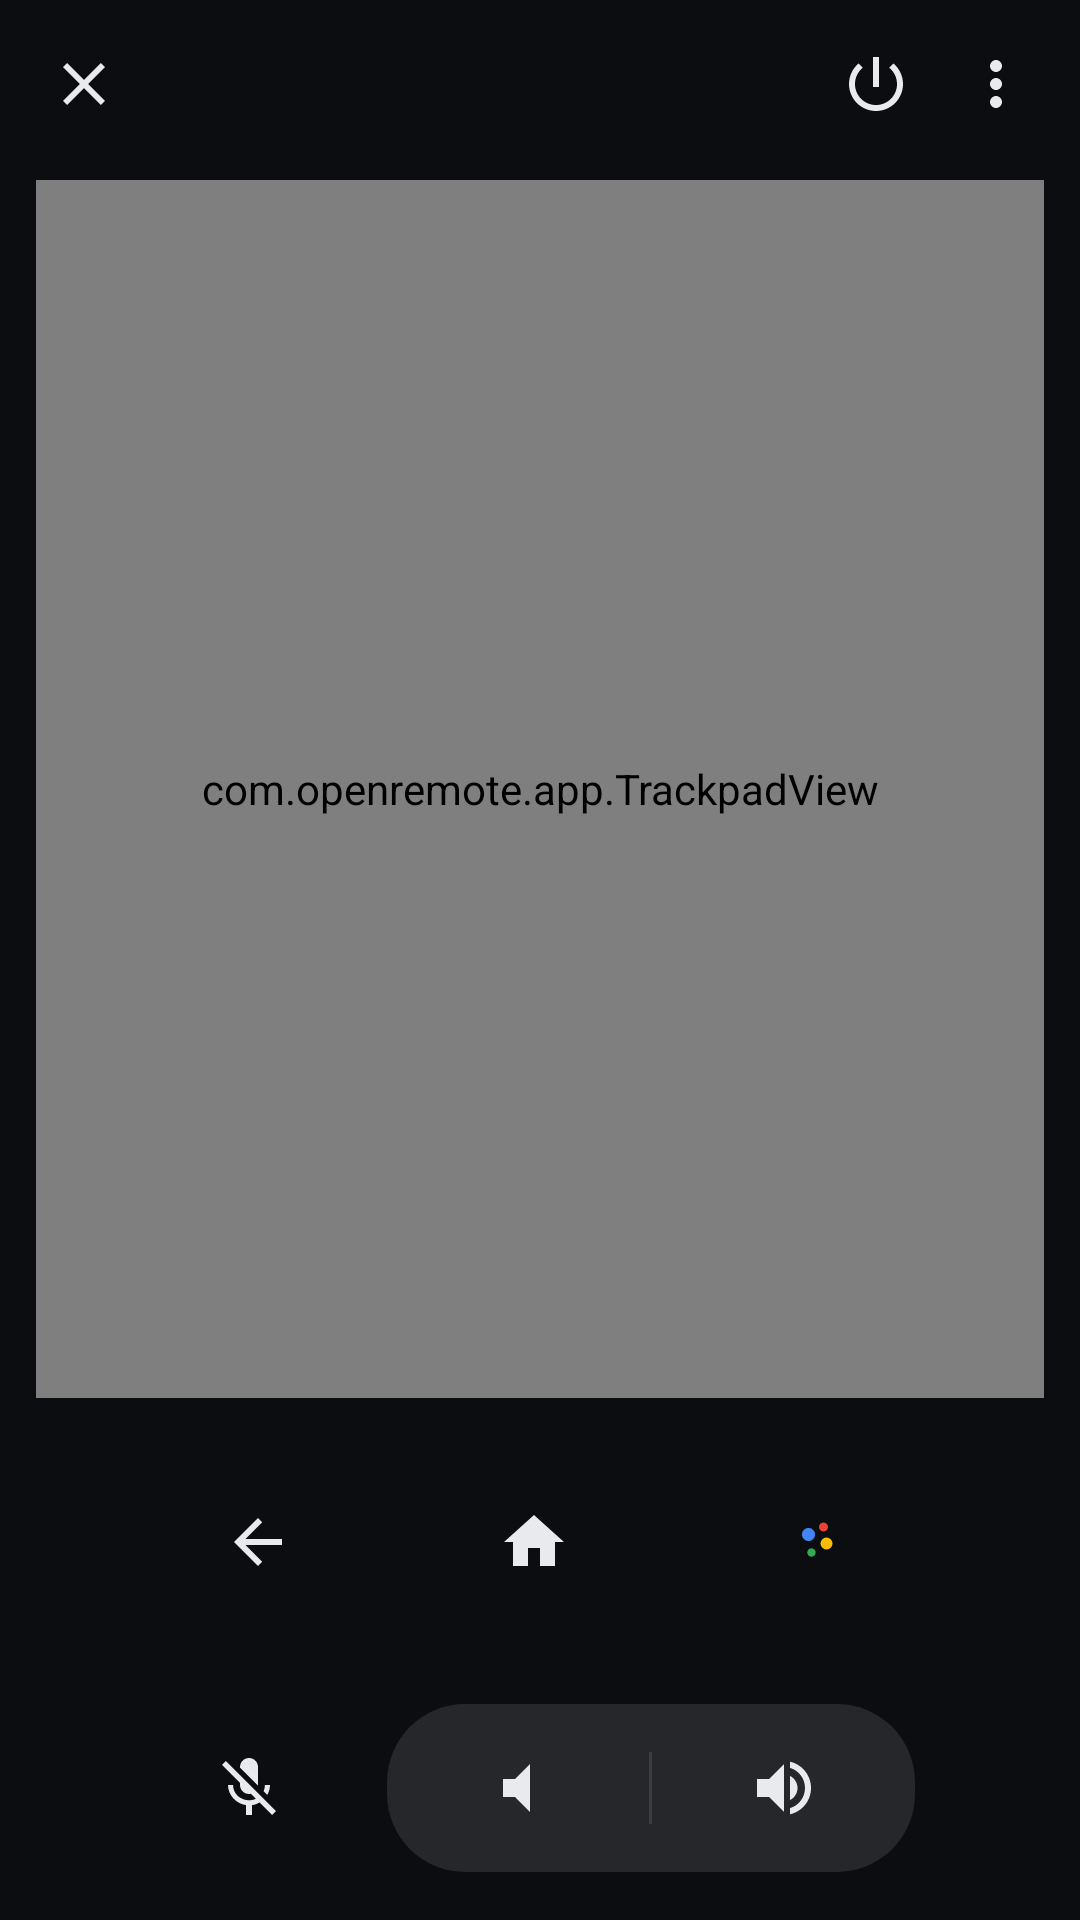

Icon click points for this 1080x1920 phone screenshot, format (x,y):
Back: (258,1542)
Close: (84,84)
Home: (534,1540)
Menu: (996,84)
Mute: (249,1786)
Power: (876,84)
Volume down: (518,1788)
Volume up: (783,1788)
